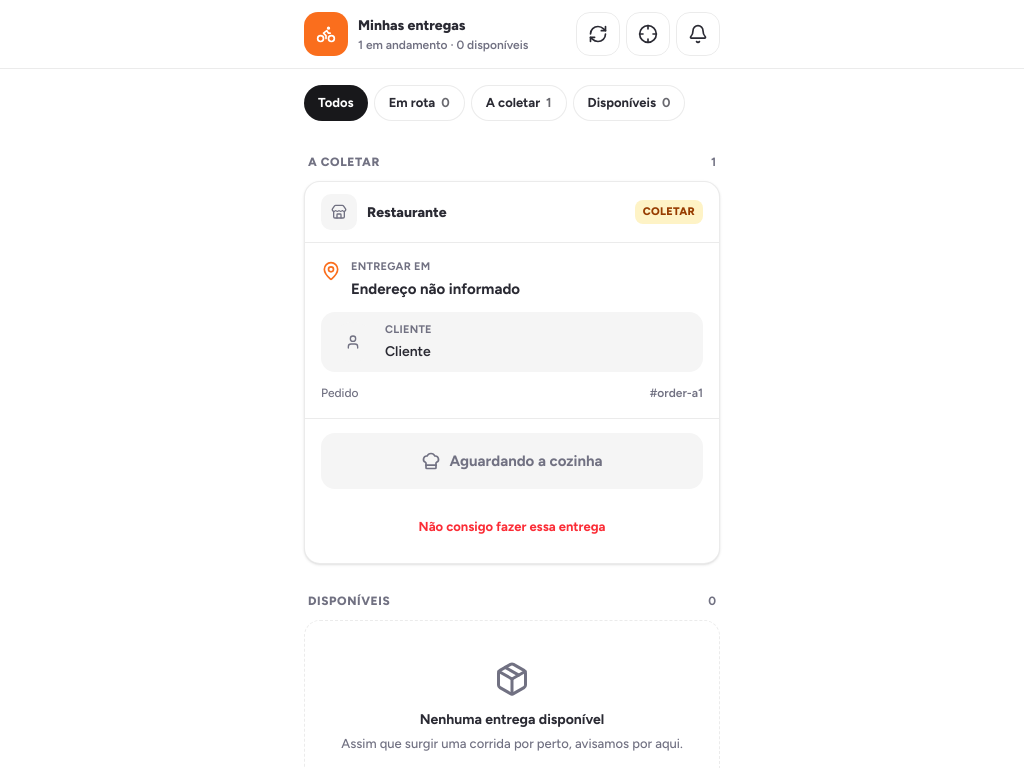
Test: DeliveryDashboardPage - filtros › filtro específico vazio mostra o grupo com aviso
Step 1. Click the button "Em rota0" → (419, 103), box [374, 85, 465, 121]
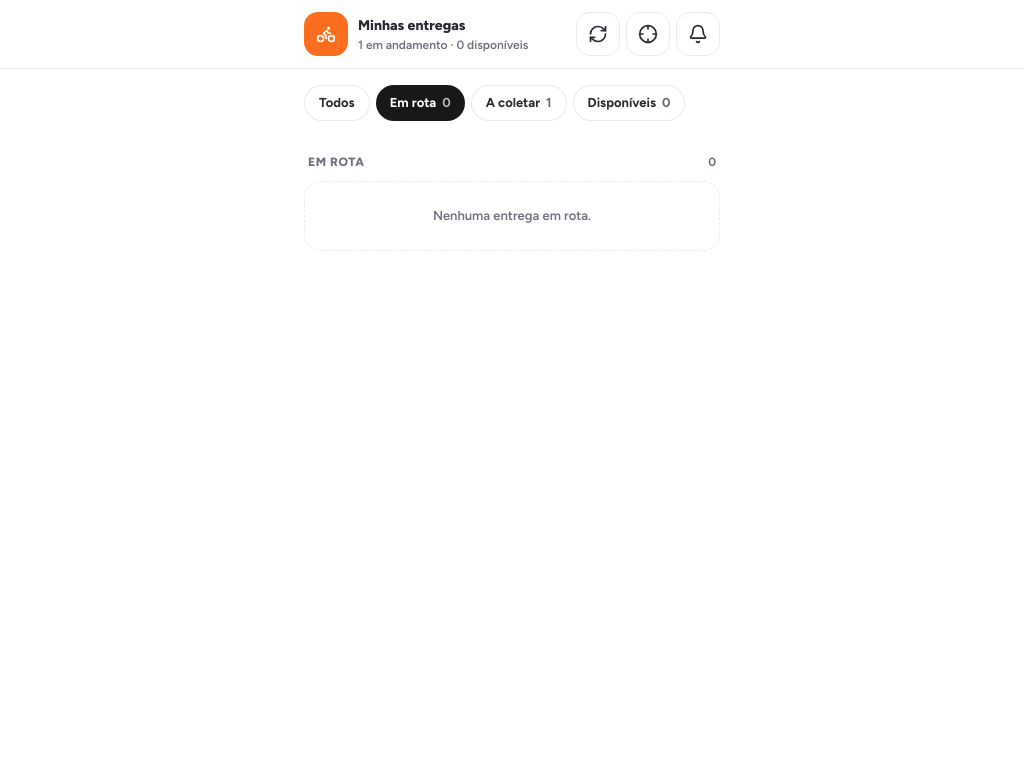
Check: the text "Nenhuma entrega em rota." is shown, box [433, 208, 591, 223]
